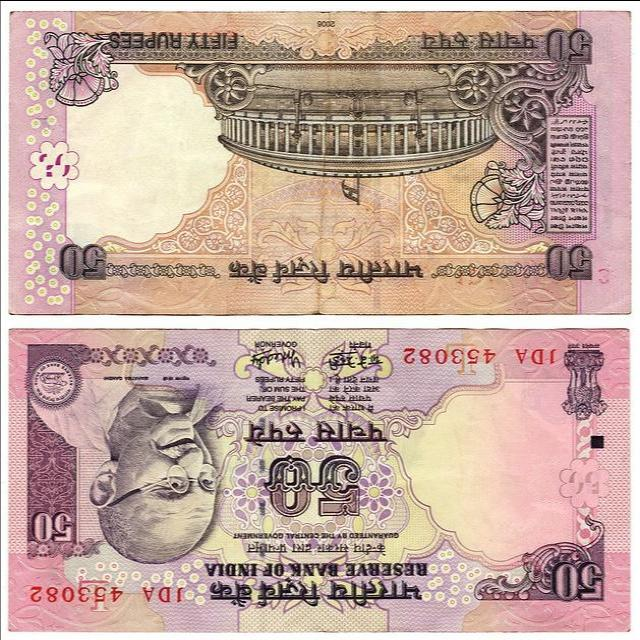50IndianRupees: (15, 9, 627, 312)
